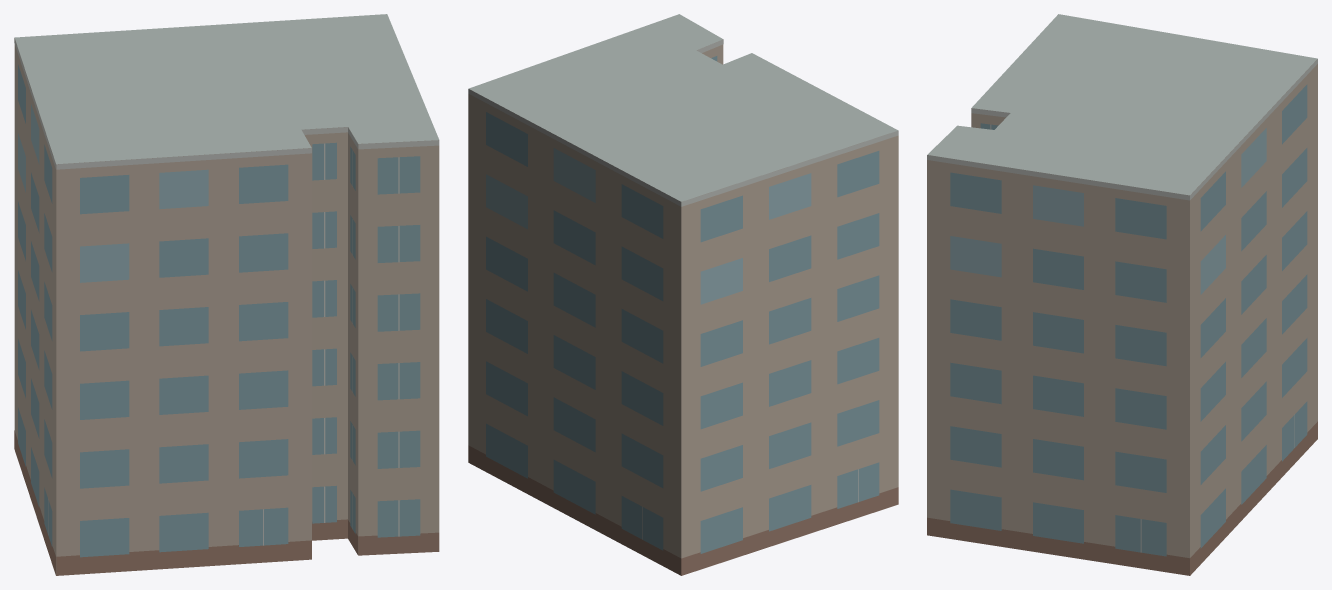
Rendered from survey-upis-32888551.glb.
The picture shows the model from 3 angles, left to right: view 1: azimuth 30°, elevation 25°; view 2: azimuth 150°, elevation 25°; view 3: azimuth 270°, elevation 25°; orthographic projection. The views are drawn at different scales.
Parts seen in each view (by area): view 1: survey-upis-32888551.tmp; view 2: survey-upis-32888551.tmp; view 3: survey-upis-32888551.tmp.
Part boxes in pixels (x1,y1,x2,y2): survey-upis-32888551.tmp: (14, 14, 439, 575); survey-upis-32888551.tmp: (468, 14, 898, 575); survey-upis-32888551.tmp: (927, 14, 1317, 575).
Size of the model in its own units: 18.73 by 18.3 by 17.04.
